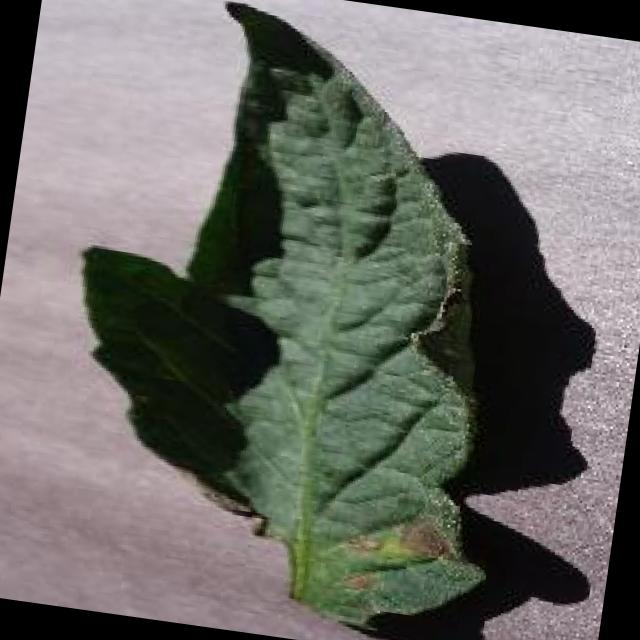Tomato_Early_Blight: (106, 198, 518, 640)
